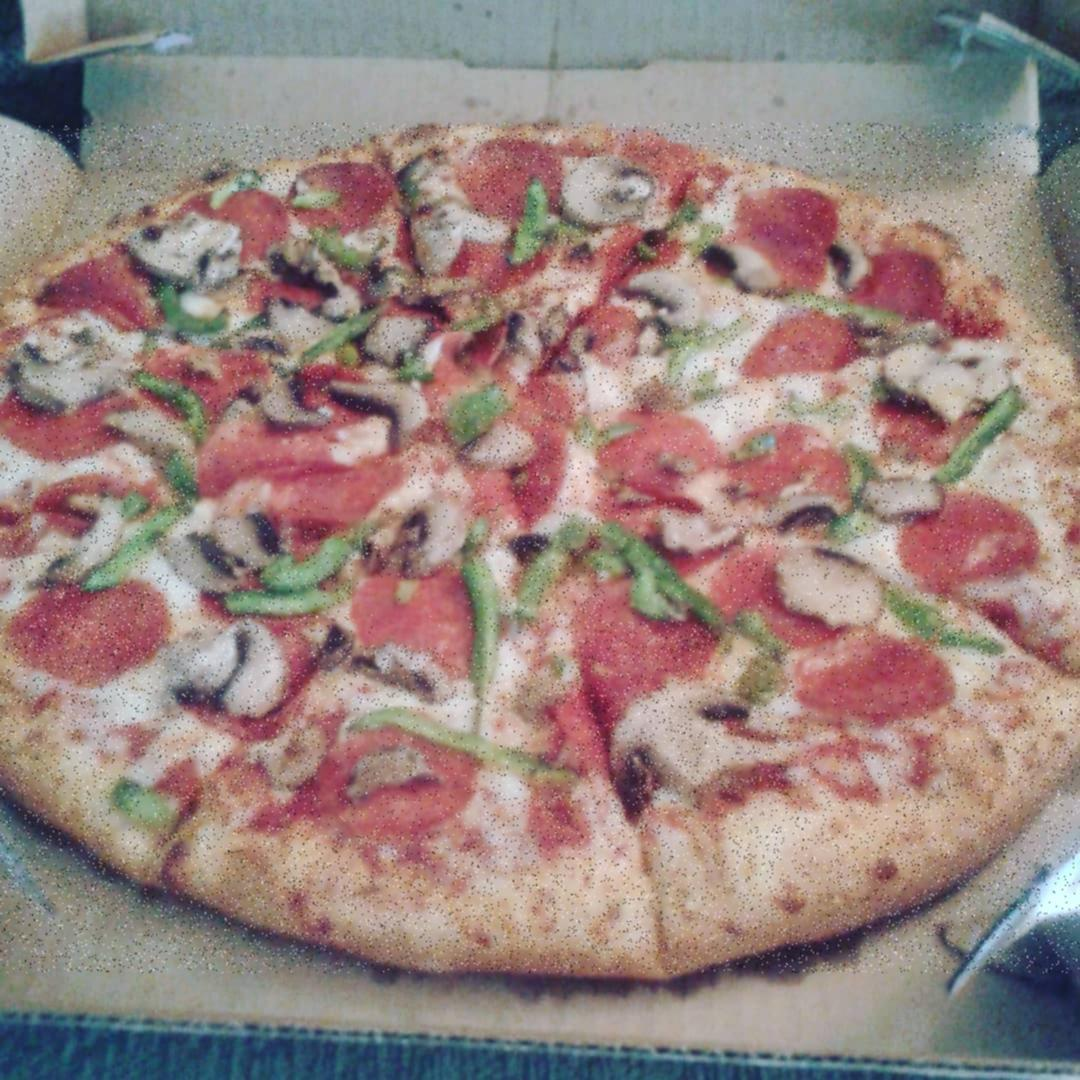Mushroom: (610, 693, 783, 798), (879, 343, 1006, 412), (162, 518, 287, 588), (780, 540, 886, 621), (401, 152, 467, 277), (186, 634, 286, 712), (379, 493, 470, 578), (136, 219, 242, 282), (278, 244, 358, 324), (331, 379, 433, 437), (1, 361, 120, 410), (563, 158, 653, 219), (364, 645, 448, 694), (630, 274, 708, 324), (855, 481, 945, 520), (659, 510, 742, 550), (706, 244, 778, 290), (367, 313, 430, 365), (468, 421, 527, 469), (502, 311, 536, 378), (830, 242, 871, 286)
Pepperoni: (196, 424, 408, 528), (321, 724, 482, 834), (16, 584, 164, 685), (353, 560, 481, 668), (461, 391, 567, 520), (904, 492, 1046, 588), (584, 582, 712, 688), (794, 640, 957, 722), (718, 548, 844, 640), (736, 188, 838, 290), (724, 427, 849, 510), (610, 411, 726, 497), (0, 391, 135, 455), (142, 350, 264, 417), (33, 254, 145, 324), (32, 477, 168, 530), (455, 140, 554, 210), (852, 243, 943, 318), (182, 192, 280, 260), (745, 316, 846, 374), (423, 333, 505, 390), (565, 307, 650, 361), (297, 164, 377, 221), (448, 238, 542, 282), (355, 297, 449, 330)
Peppers: (364, 707, 576, 792), (604, 523, 721, 622), (83, 502, 184, 592), (930, 394, 1024, 483), (882, 594, 997, 653), (518, 515, 582, 616), (294, 304, 386, 362), (469, 555, 506, 699), (140, 373, 208, 441), (272, 540, 352, 589), (111, 782, 176, 830), (512, 182, 550, 259), (163, 290, 228, 333), (451, 387, 499, 443), (228, 589, 333, 613), (319, 228, 371, 269)
Pizza: (0, 124, 1080, 974)
